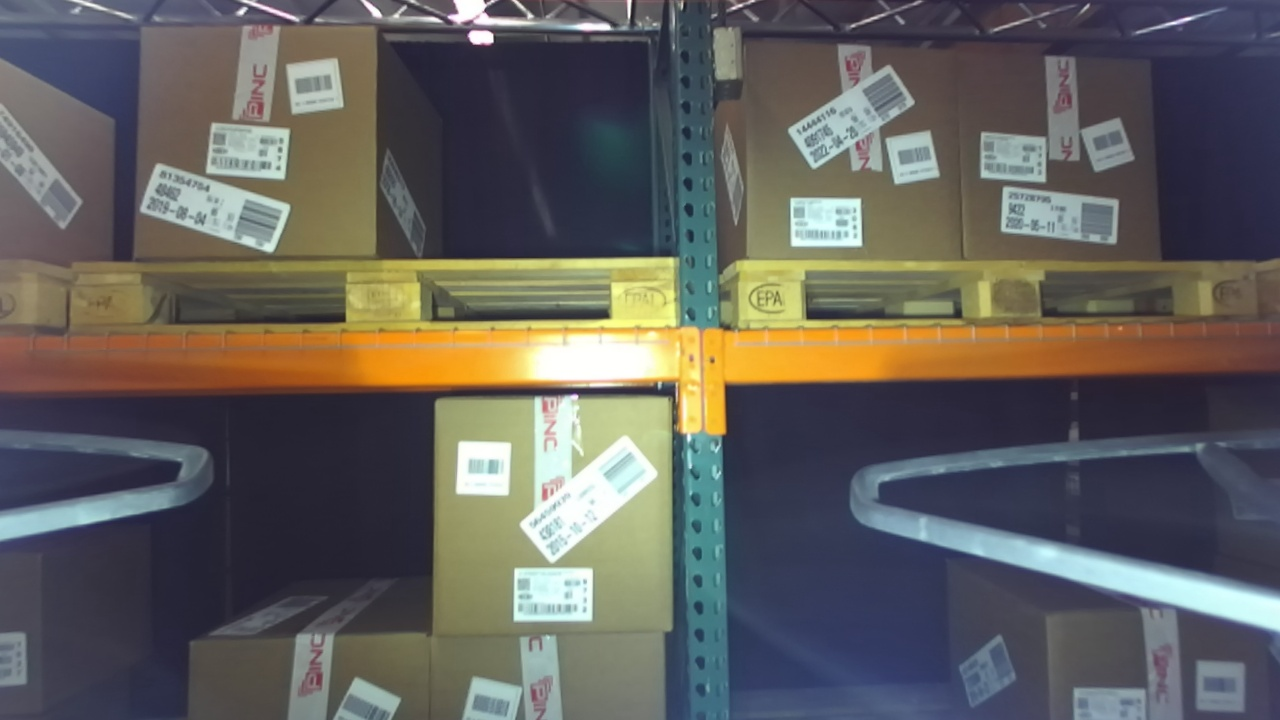box: (115, 8, 405, 292), (413, 376, 689, 650), (730, 15, 969, 284), (944, 16, 1178, 281)
